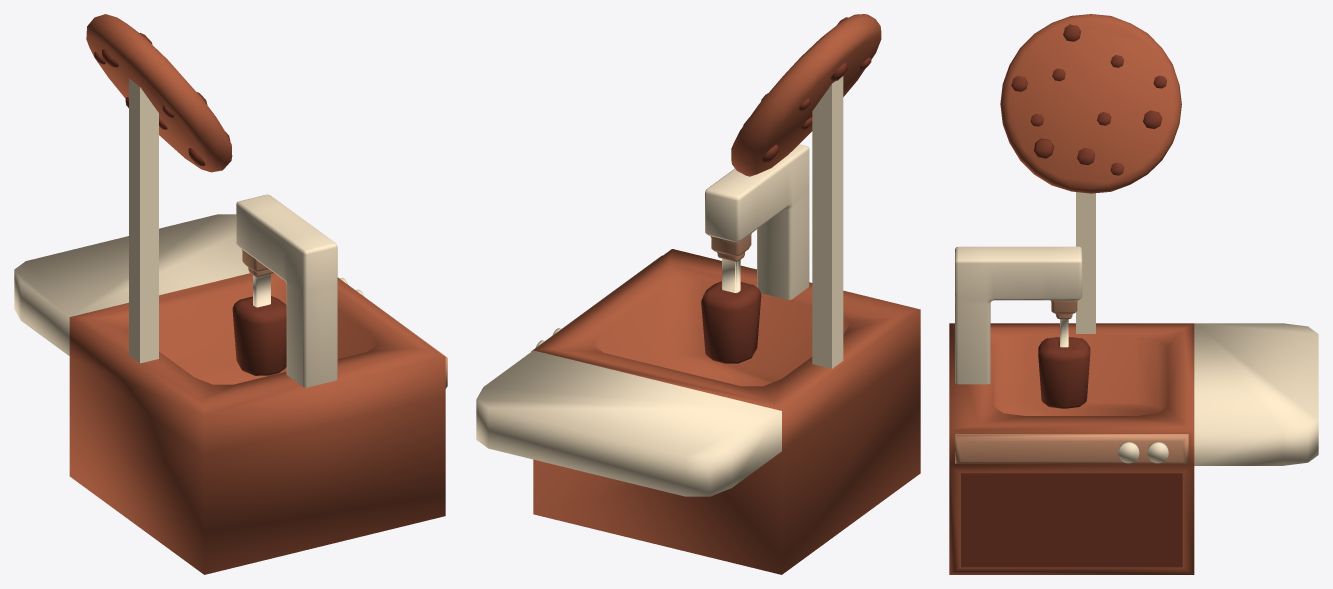
File: Cookie-Machine.fbx
The picture shows the model from 3 angles, left to right: view 1: azimuth 30°, elevation 25°; view 2: azimuth 150°, elevation 25°; view 3: azimuth 270°, elevation 25°; orthographic projection. The views are drawn at different scales.
Parts seen in each view (by area): view 1: Cookie-Machine; view 2: Cookie-Machine; view 3: Cookie-Machine.
Part boxes in pixels (left/top/right/bottom): Cookie-Machine: left=14, top=14, right=447, bottom=574; Cookie-Machine: left=476, top=14, right=920, bottom=574; Cookie-Machine: left=949, top=14, right=1318, bottom=574.
Size of the model in its own units: 275 by 475 by 353.
